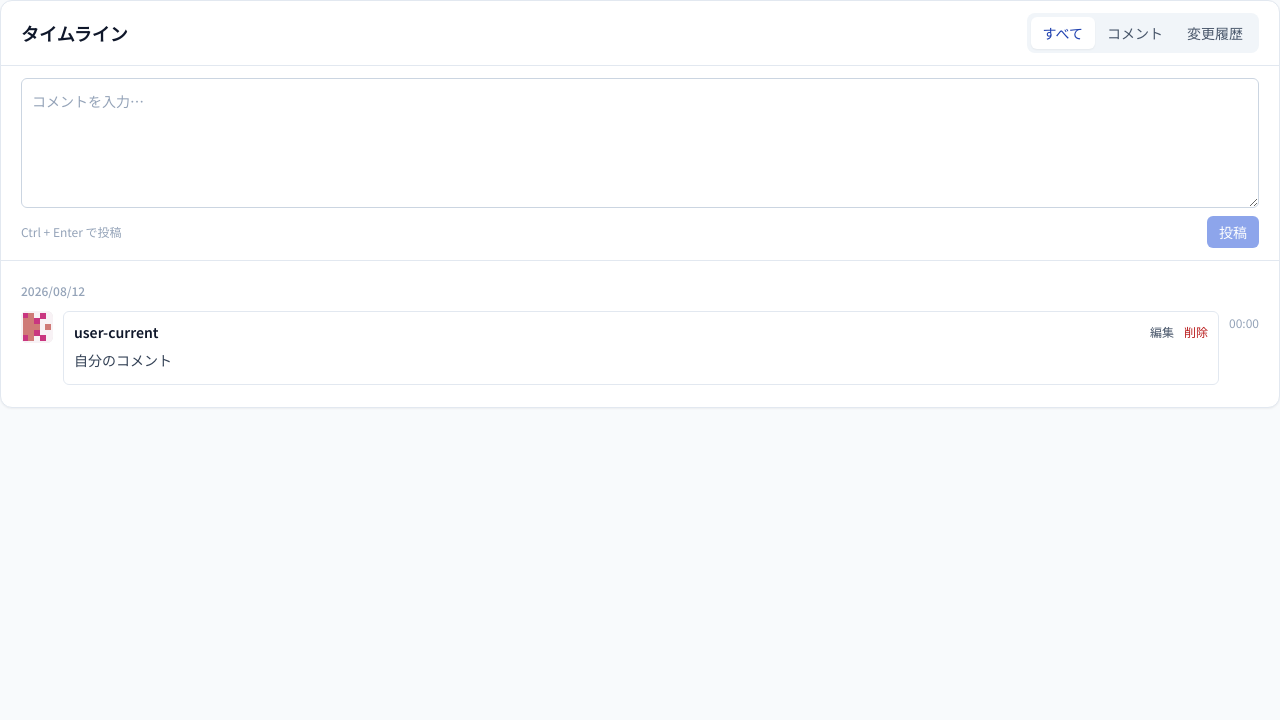
Test: TaskTimeline › 自分のコメントを削除し、成功後に再取得する
Click the button with aria-label "自分のコメントを削除": (1196, 332) x1=1184 y1=324 x2=1208 y2=340
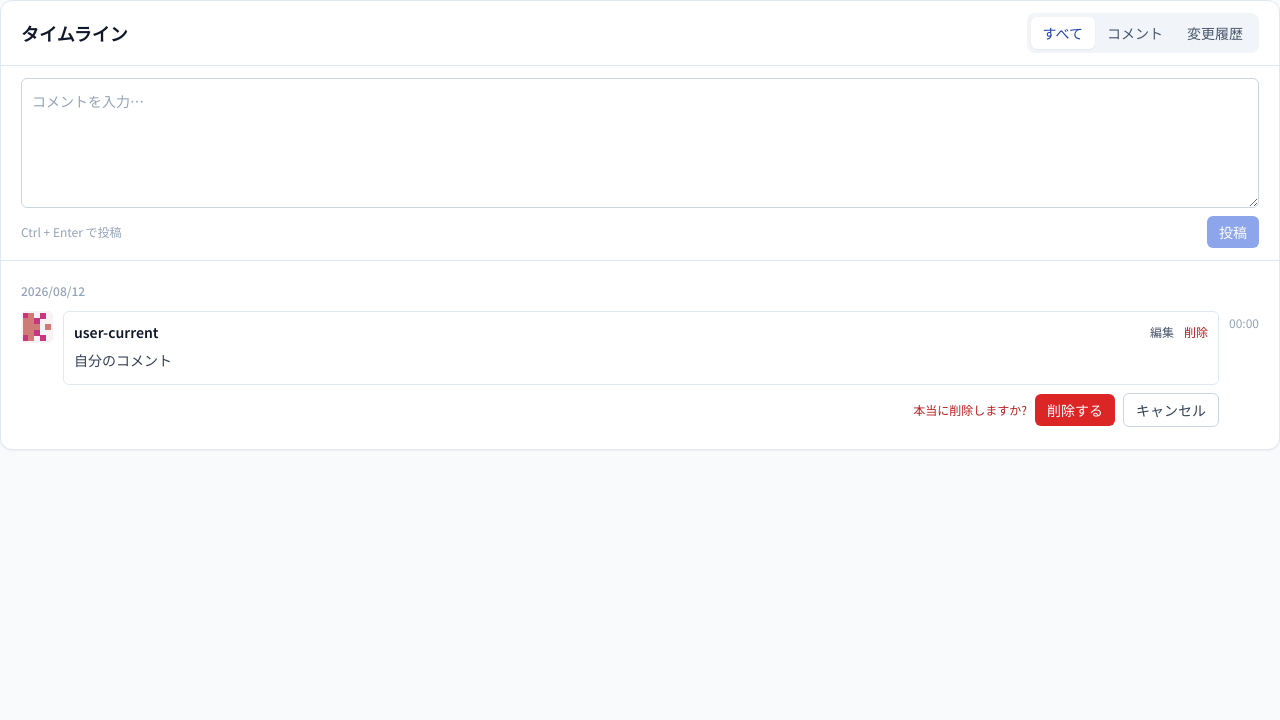
Check: the element showing "user-current 編集 削除 自分のコメント" is shown, box x1=63 y1=311 x2=1219 y2=385
Check: the dialog with test id "delete-comment-confirm" shows "本当に削除しますか?", box x1=913 y1=401 x2=1027 y2=418
Click the button with aria-label "コメント削除を確定": (1075, 410) x1=1035 y1=394 x2=1115 y2=426
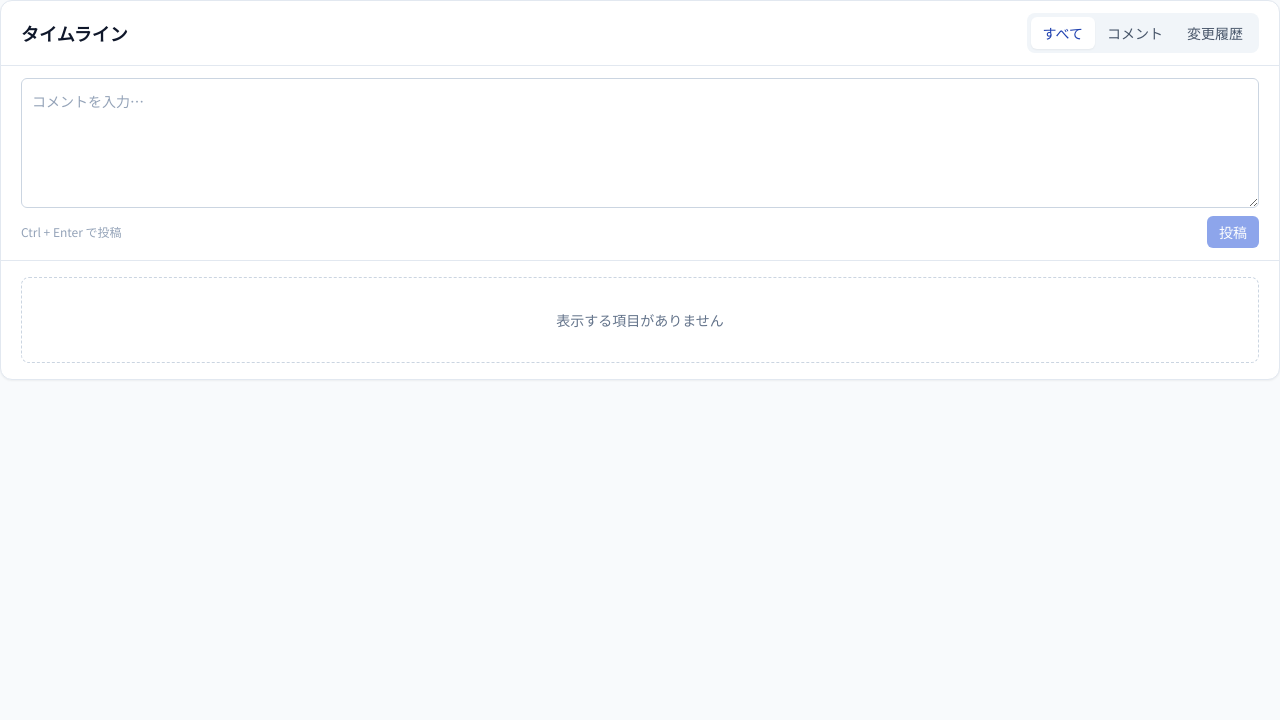
Check: the text "自分のコメント" is gone
